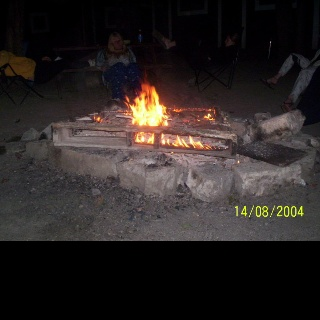without_mask: (111, 36, 123, 50), (225, 34, 233, 46)
